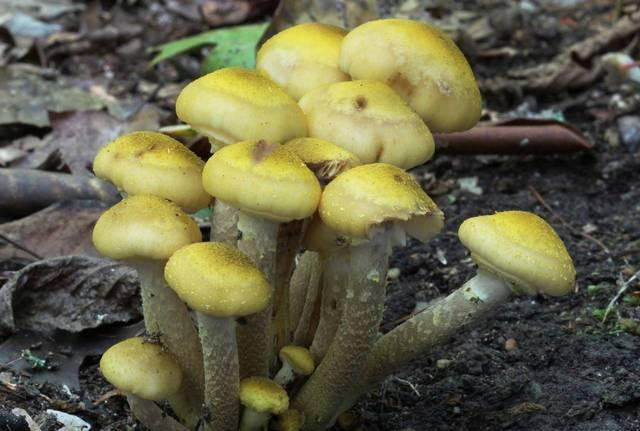edible_mushroom: (90, 17, 577, 429)
